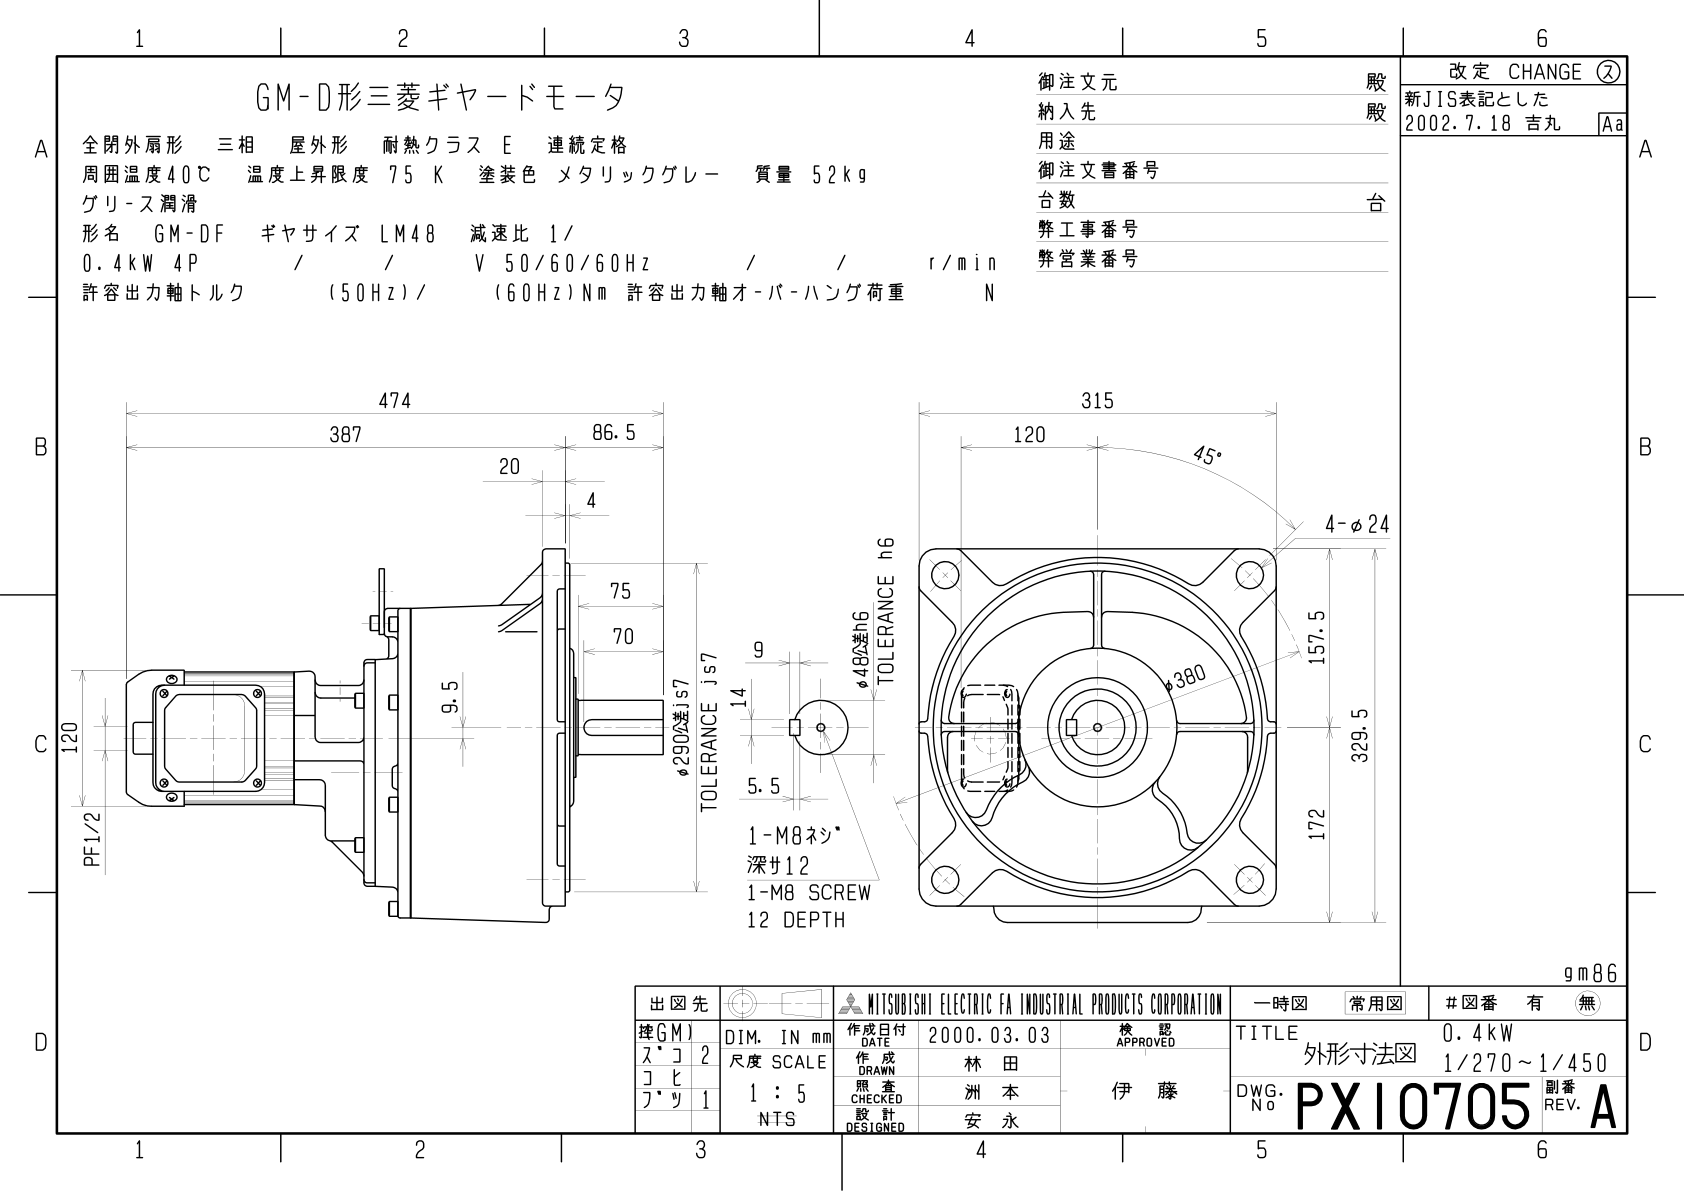GM_D_屋外＿三相_フランジ: (21, 15, 1684, 1191)
